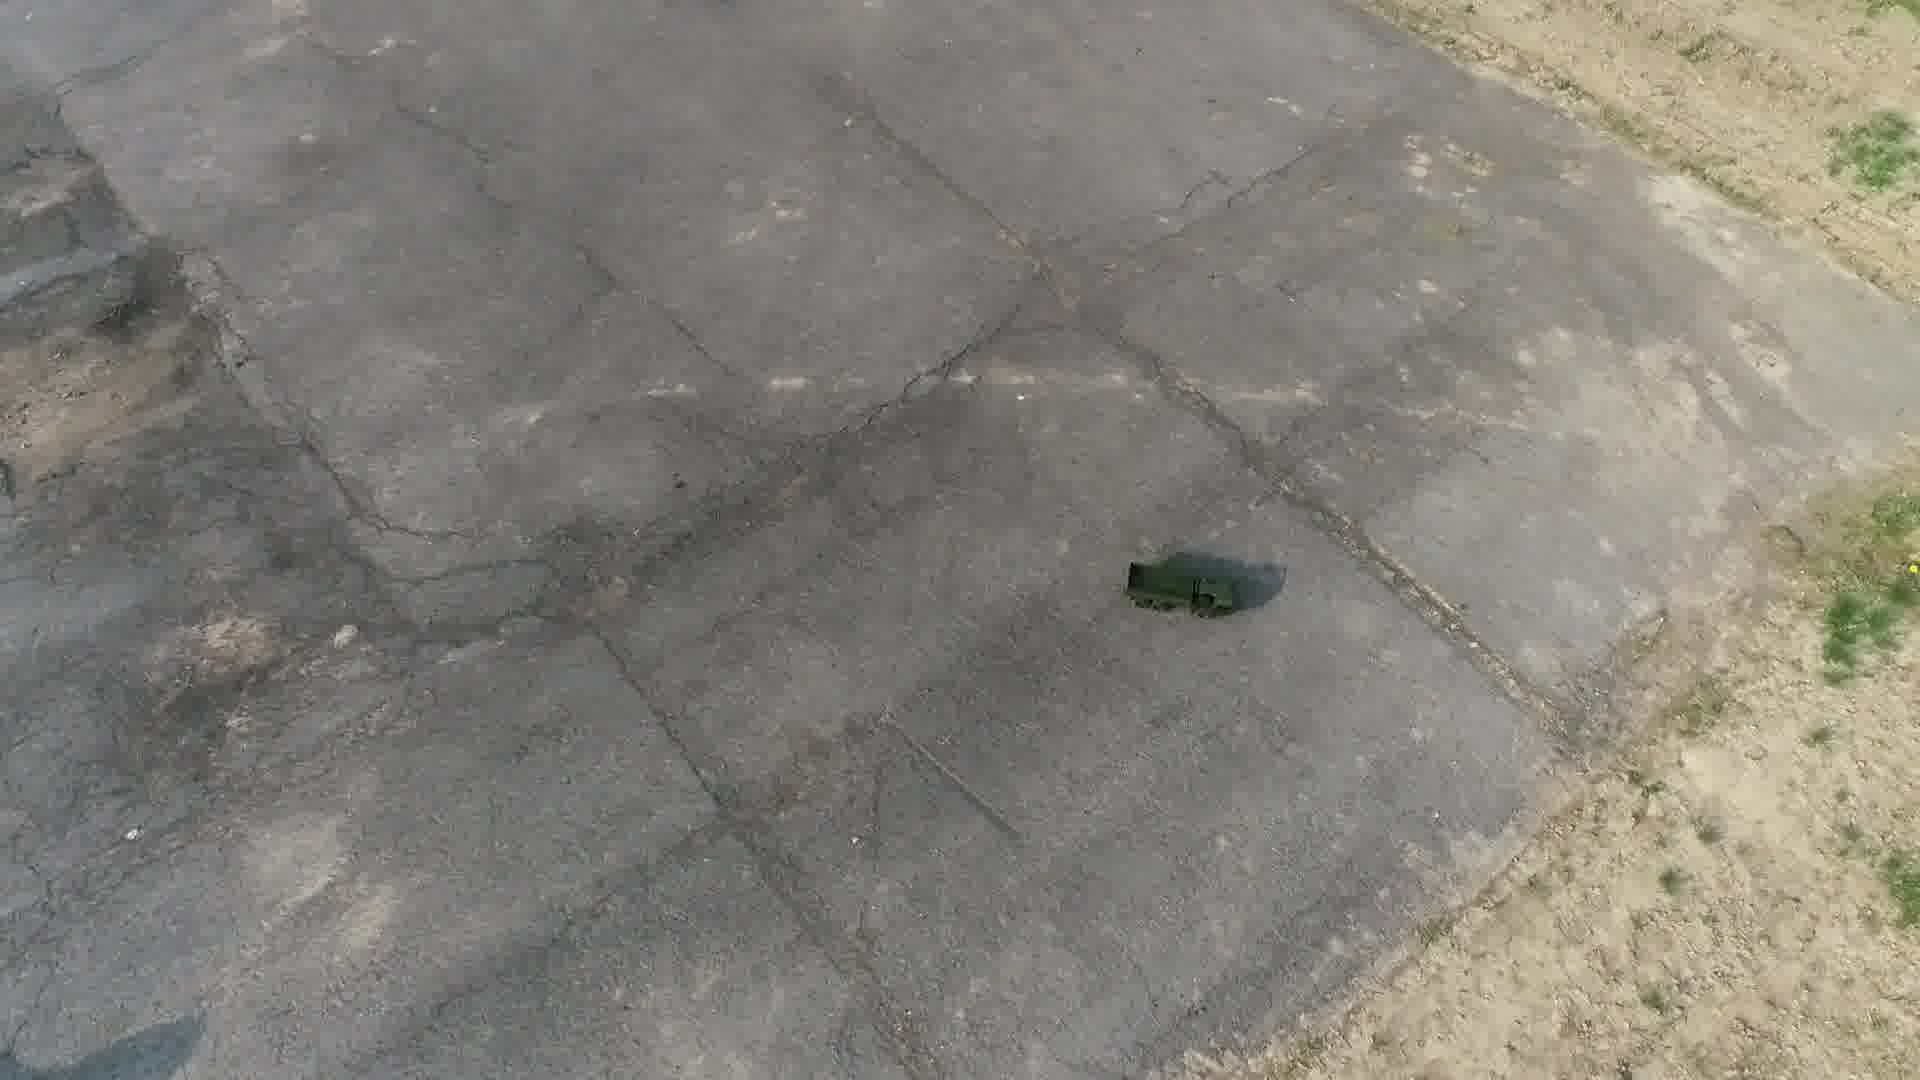transporter9: (1118, 559, 1244, 625)
